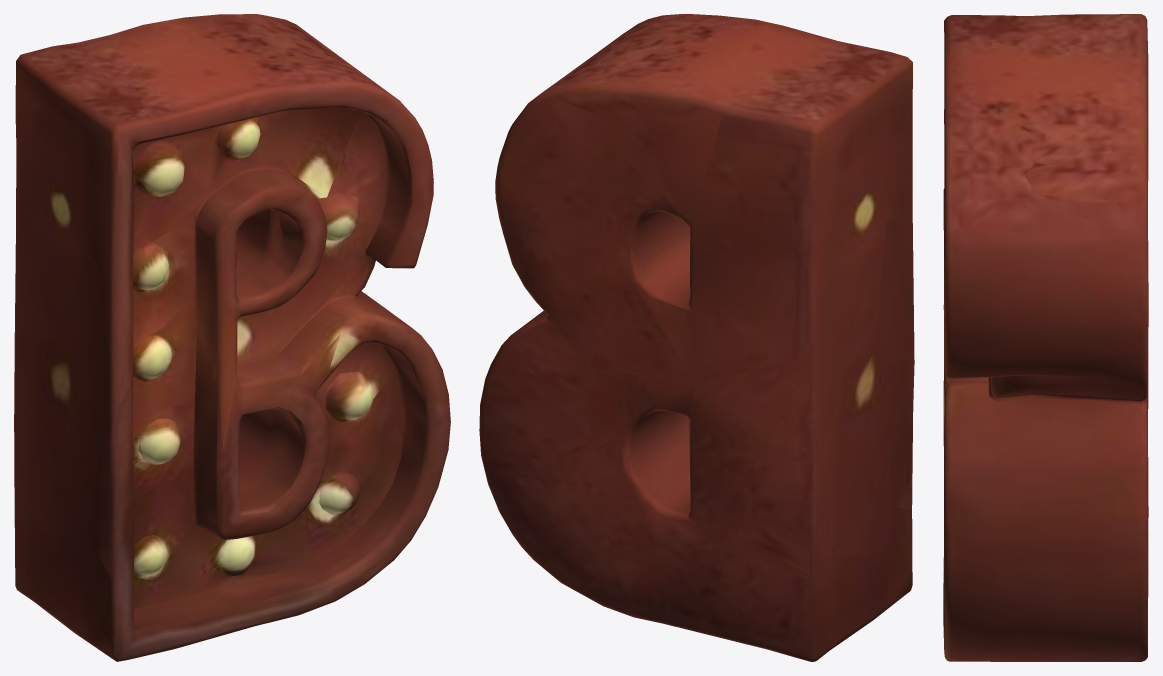
File: letter_b_idle.glb
The picture shows the model from 3 angles, left to right: view 1: azimuth 30°, elevation 25°; view 2: azimuth 150°, elevation 25°; view 3: azimuth 270°, elevation 25°; orthographic projection.
Parts seen in each view (by area): view 1: letter_b; view 2: letter_b; view 3: letter_b.
Part boxes in pixels (x1,y1,x2,y2): letter_b: [14, 14, 450, 661]; letter_b: [479, 14, 914, 661]; letter_b: [943, 14, 1148, 661].
Size of the model in its own units: 0.6547 by 0.9883 by 0.3369.
1 material, 1 textured.
